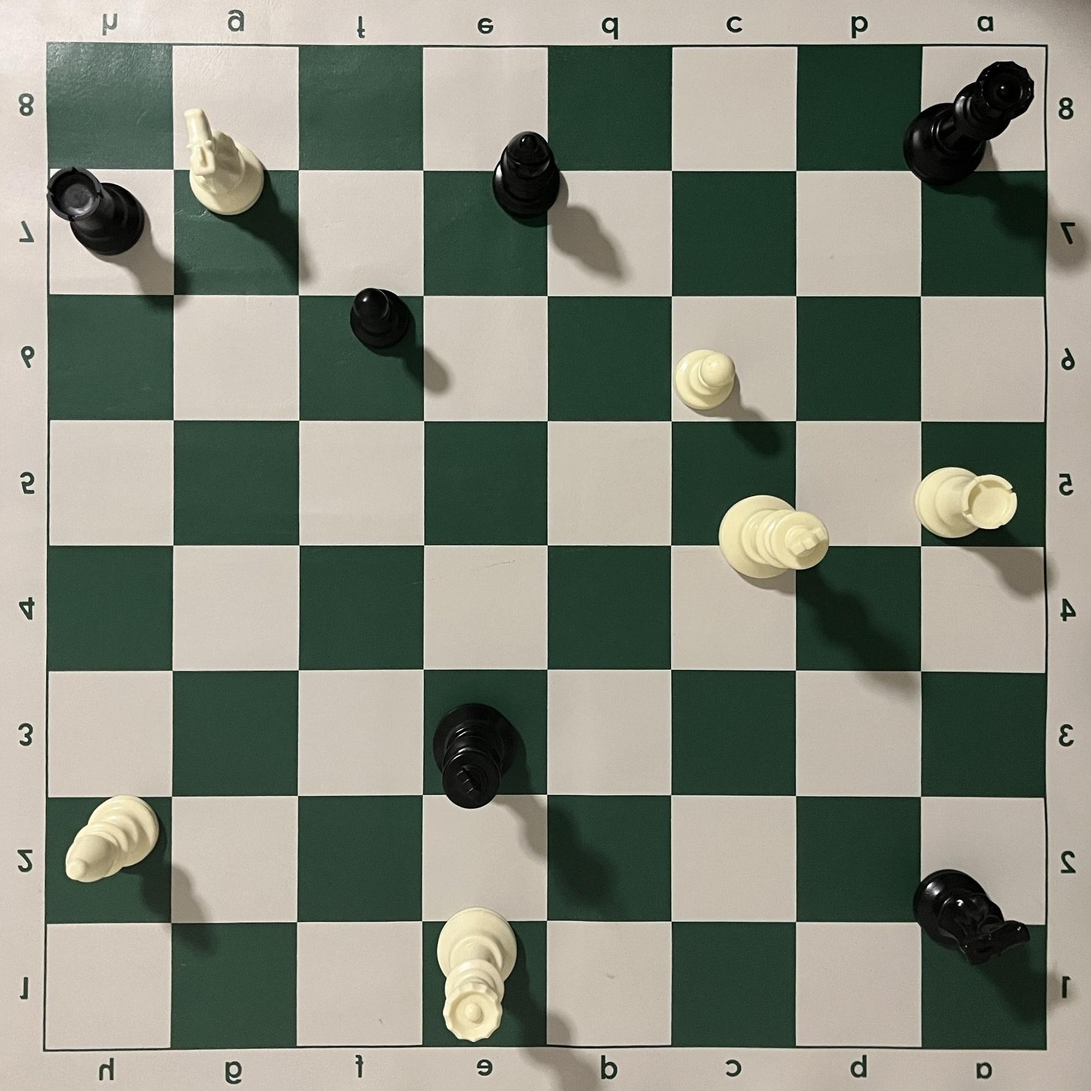black_bishop: (492, 131, 562, 220)
black_king: (433, 702, 521, 810)
black_knight: (913, 869, 1031, 965)
black_pawn: (349, 288, 412, 350)
black_queen: (903, 60, 1036, 187)
black_rook: (46, 167, 146, 256)
white_bishop: (65, 794, 160, 884)
white_king: (718, 494, 831, 579)
white_knight: (183, 107, 266, 216)
white_pawn: (675, 349, 737, 411)
white_queen: (436, 907, 517, 1043)
white_rook: (914, 467, 1019, 539)
